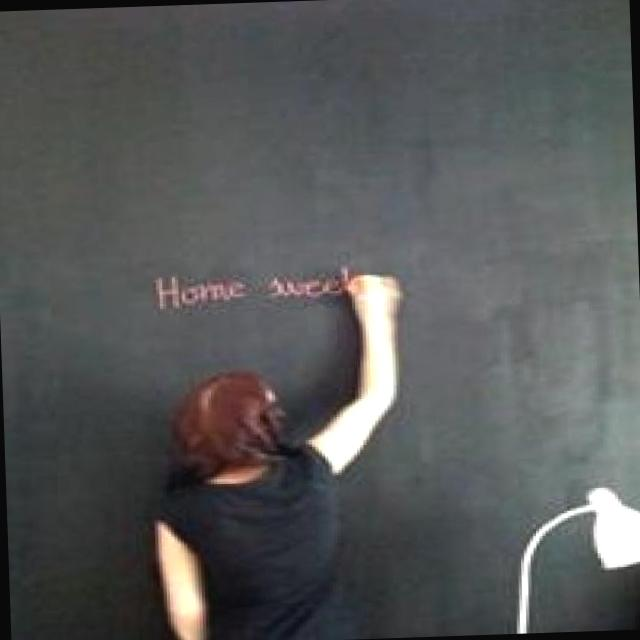no_vest: (141, 449, 387, 640)
